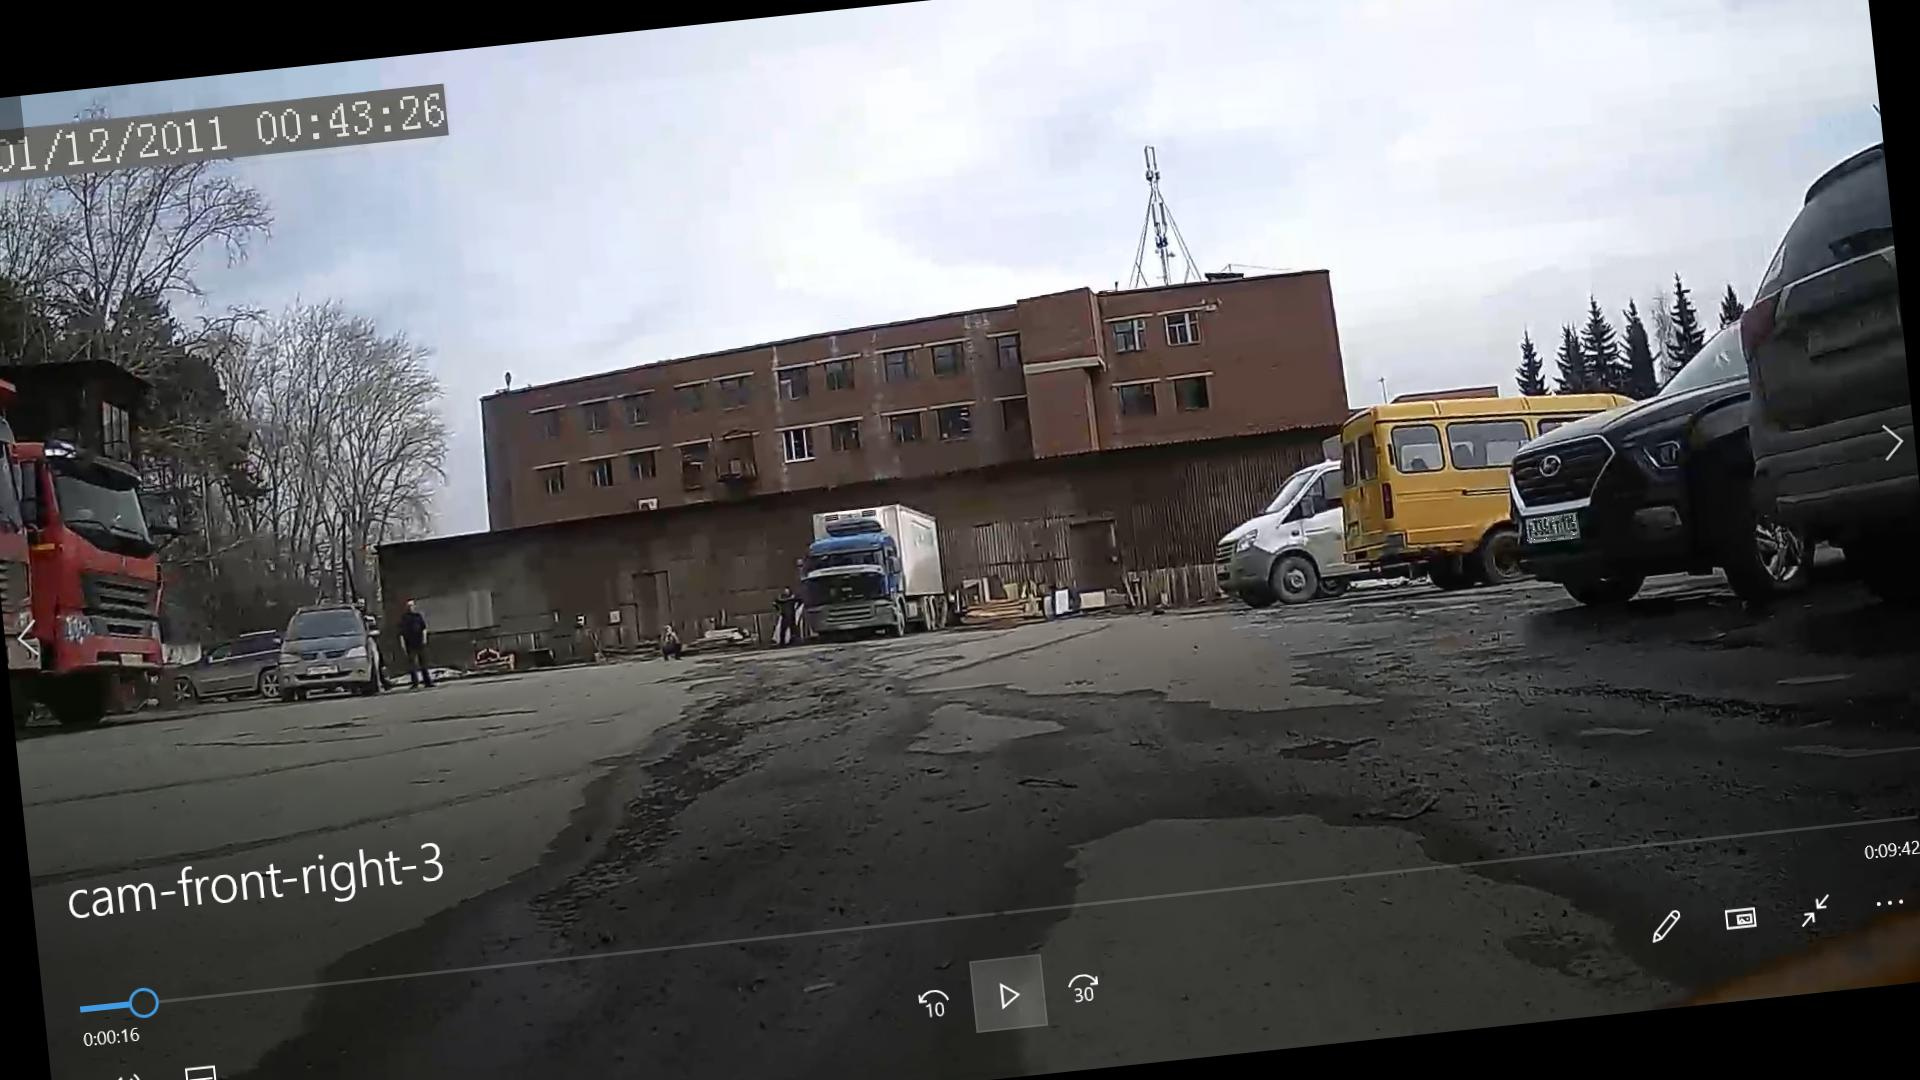plate: (1527, 515, 1581, 545)
